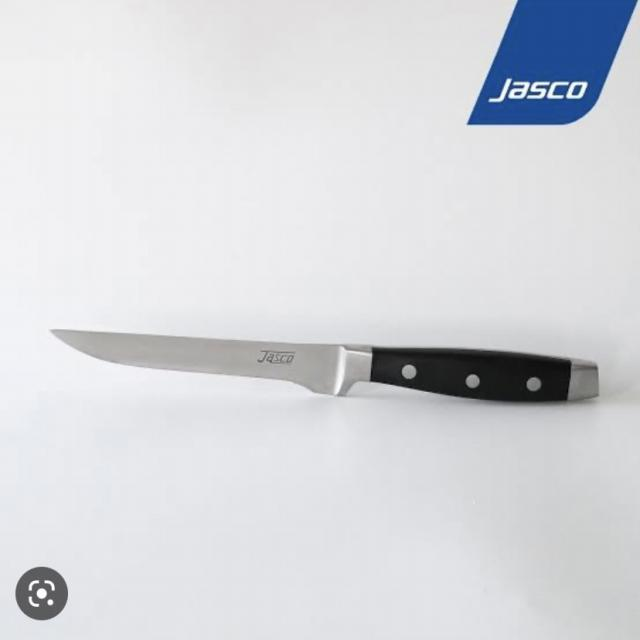Knife: (43, 299, 608, 433)
